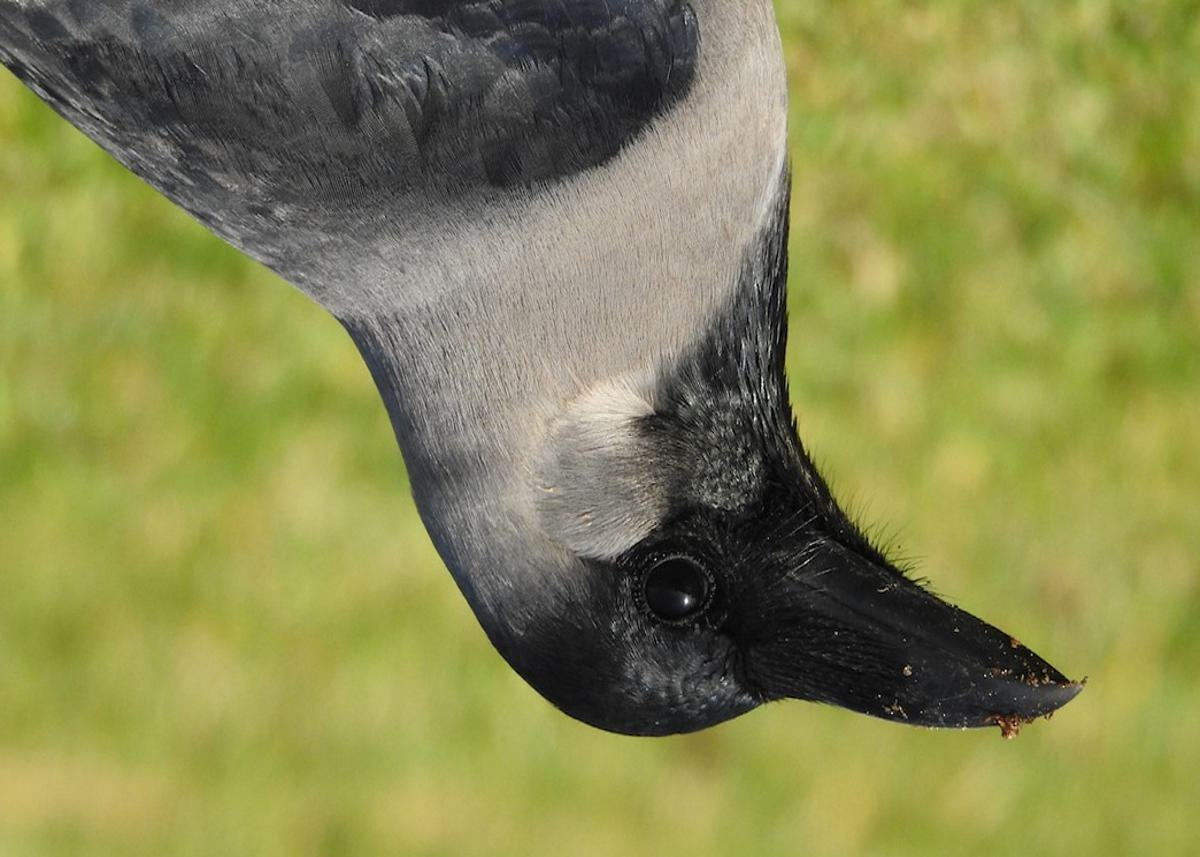crow: (1, 1, 1070, 753)
